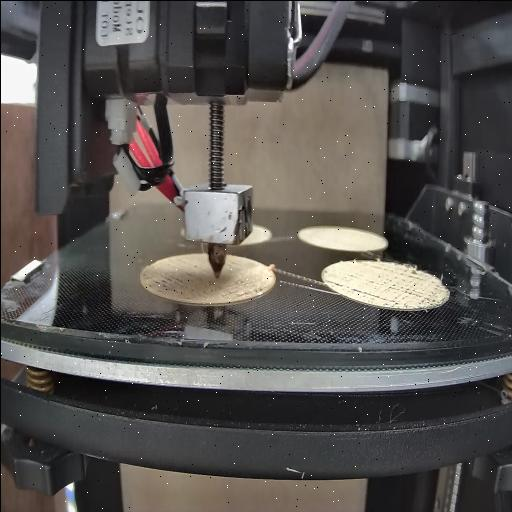under_extrusion: (350, 264, 446, 306), (142, 264, 198, 296), (226, 276, 264, 304), (322, 273, 345, 292)
